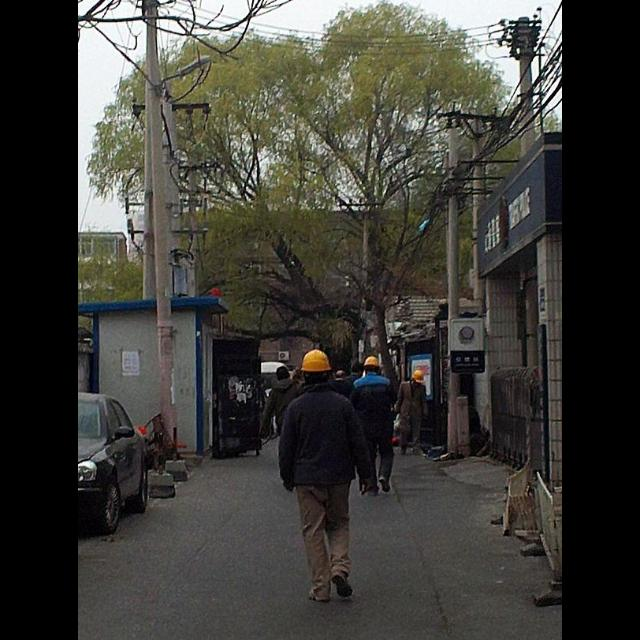head: (302, 349, 332, 388), (364, 356, 382, 374), (278, 368, 290, 384), (352, 364, 364, 378), (413, 374, 425, 388), (336, 371, 346, 381)
person: (278, 349, 374, 605), (349, 355, 398, 499), (258, 366, 310, 472), (394, 370, 430, 458), (324, 368, 356, 462), (344, 360, 374, 460)
